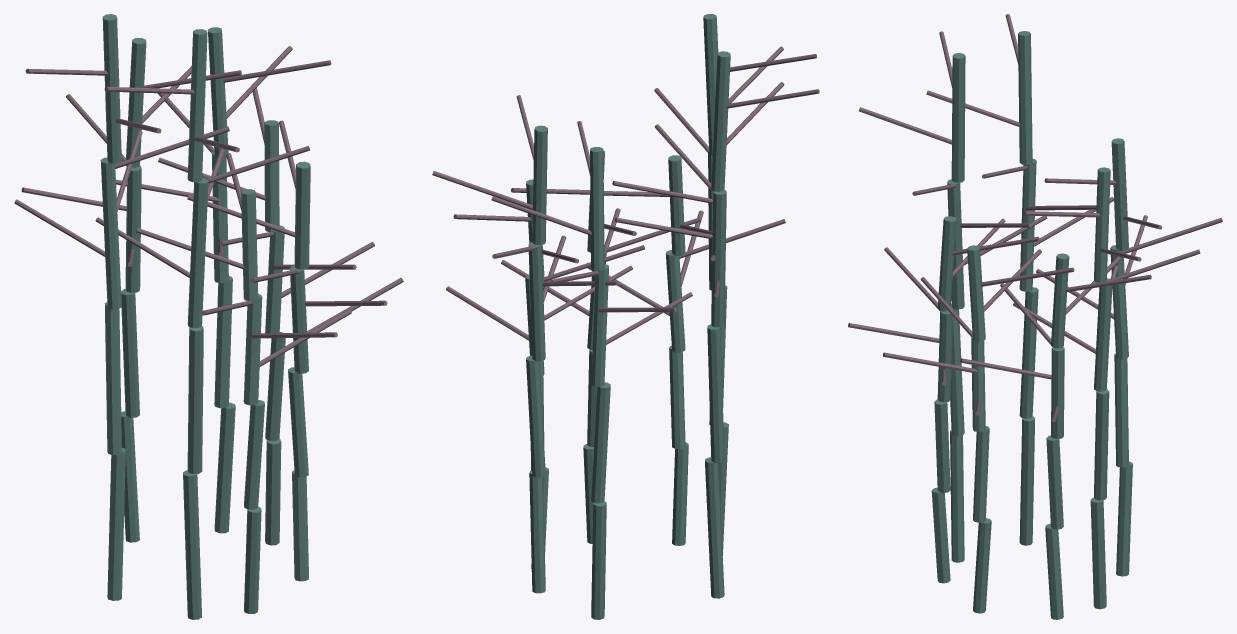
Rendered from moonfall_bamboo_canopy_lod1.glb.
3 views of the same model, side by side, from view 1: azimuth 30°, elevation 25°; view 2: azimuth 150°, elevation 25°; view 3: azimuth 270°, elevation 25° (orthographic). The views are drawn at different scales.
Visible parts, largest first — view 1: moonfall_bamboo_canopy_048, moonfall_bamboo_canopy_018, moonfall_bamboo_canopy_019, moonfall_bamboo_canopy_046, moonfall_bamboo_canopy_047, moonfall_bamboo_canopy_045, moonfall_bamboo_canopy_020, moonfall_bamboo_canopy_021, moonfall_bamboo_canopy_009, moonfall_bamboo_canopy_037, moonfall_bamboo_canopy_010, moonfall_bamboo_canopy_038 (+22 smaller); view 2: moonfall_bamboo_canopy_018, moonfall_bamboo_canopy_021, moonfall_bamboo_canopy_019, moonfall_bamboo_canopy_020, moonfall_bamboo_canopy_039, moonfall_bamboo_canopy_009, moonfall_bamboo_canopy_010, moonfall_bamboo_canopy_036, moonfall_bamboo_canopy_037, moonfall_bamboo_canopy_012, moonfall_bamboo_canopy_011, moonfall_bamboo_canopy_038 (+11 smaller); view 3: moonfall_bamboo_canopy_021, moonfall_bamboo_canopy_048, moonfall_bamboo_canopy_045, moonfall_bamboo_canopy_018, moonfall_bamboo_canopy_019, moonfall_bamboo_canopy_012, moonfall_bamboo_canopy_036, moonfall_bamboo_canopy_009, moonfall_bamboo_canopy_037, moonfall_bamboo_canopy_039, moonfall_bamboo_canopy_010, moonfall_bamboo_canopy_011 (+17 smaller).
Boxes of the visible parts, <box> form: moonfall_bamboo_canopy_048: <box>187,29,207,182</box>; moonfall_bamboo_canopy_018: <box>107,448,125,600</box>; moonfall_bamboo_canopy_019: <box>104,302,121,455</box>; moonfall_bamboo_canopy_046: <box>187,326,203,473</box>; moonfall_bamboo_canopy_047: <box>187,177,208,328</box>; moonfall_bamboo_canopy_045: <box>183,470,201,619</box>; moonfall_bamboo_canopy_020: <box>100,157,121,309</box>; moonfall_bamboo_canopy_021: <box>102,14,121,164</box>; moonfall_bamboo_canopy_009: <box>214,402,235,533</box>; moonfall_bamboo_canopy_037: <box>121,289,139,417</box>; moonfall_bamboo_canopy_010: <box>214,276,232,408</box>; moonfall_bamboo_canopy_038: <box>125,165,141,292</box>; moonfall_bamboo_canopy_018: <box>705,457,724,598</box>; moonfall_bamboo_canopy_021: <box>711,51,730,191</box>; moonfall_bamboo_canopy_019: <box>707,324,724,463</box>; moonfall_bamboo_canopy_020: <box>711,189,726,327</box>; moonfall_bamboo_canopy_039: <box>590,147,604,270</box>; moonfall_bamboo_canopy_009: <box>529,470,545,593</box>; moonfall_bamboo_canopy_010: <box>526,355,545,477</box>; moonfall_bamboo_canopy_036: <box>591,501,606,619</box>; moonfall_bamboo_canopy_037: <box>591,382,610,503</box>; moonfall_bamboo_canopy_012: <box>532,125,547,244</box>; moonfall_bamboo_canopy_011: <box>528,242,545,361</box>; moonfall_bamboo_canopy_038: <box>591,264,608,386</box>; moonfall_bamboo_canopy_021: <box>1018,31,1032,164</box>; moonfall_bamboo_canopy_048: <box>951,53,965,182</box>; moonfall_bamboo_canopy_045: <box>950,430,964,562</box>; moonfall_bamboo_canopy_018: <box>1019,416,1034,545</box>; moonfall_bamboo_canopy_019: <box>1019,287,1038,418</box>; moonfall_bamboo_canopy_012: <box>1094,167,1110,282</box>; moonfall_bamboo_canopy_036: <box>1116,461,1132,576</box>; moonfall_bamboo_canopy_009: <box>1090,497,1106,609</box>; moonfall_bamboo_canopy_037: <box>1114,353,1128,467</box>; moonfall_bamboo_canopy_039: <box>1111,138,1128,250</box>; moonfall_bamboo_canopy_010: <box>1094,389,1109,500</box>; moonfall_bamboo_canopy_011: <box>1094,278,1112,391</box>.
Size of the model in its own units: 7.53 by 11.21 by 7.5.
